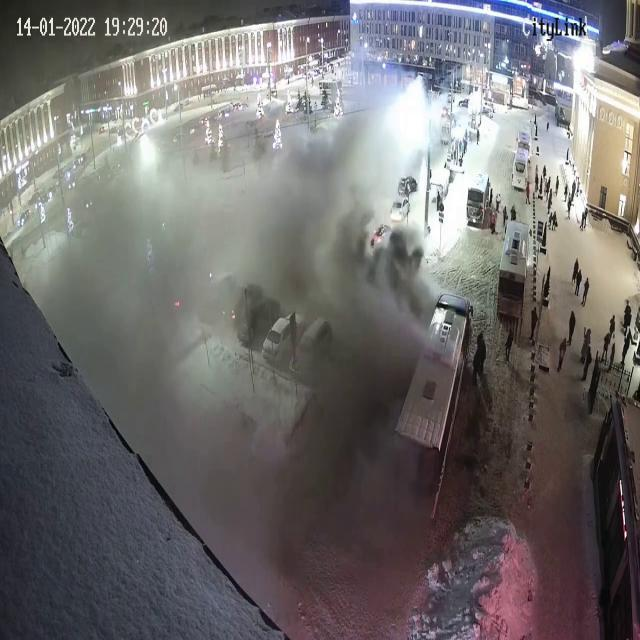Smoke: (237, 86, 443, 352)
